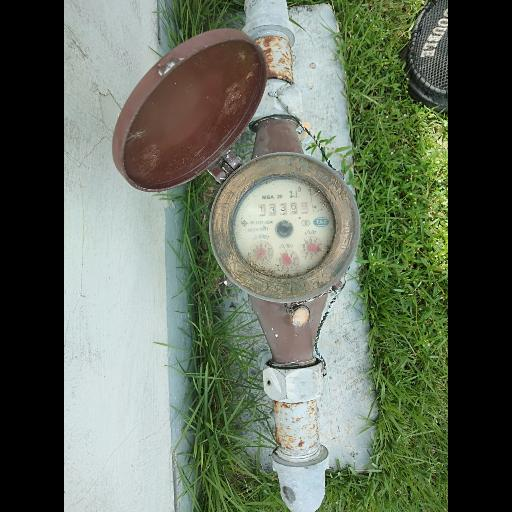1: (257, 205, 265, 217)
3: (269, 204, 276, 216), (279, 203, 286, 215)
6: (291, 202, 298, 214)
9: (301, 202, 308, 214)
border_water_meter_number: (257, 201, 309, 217)
